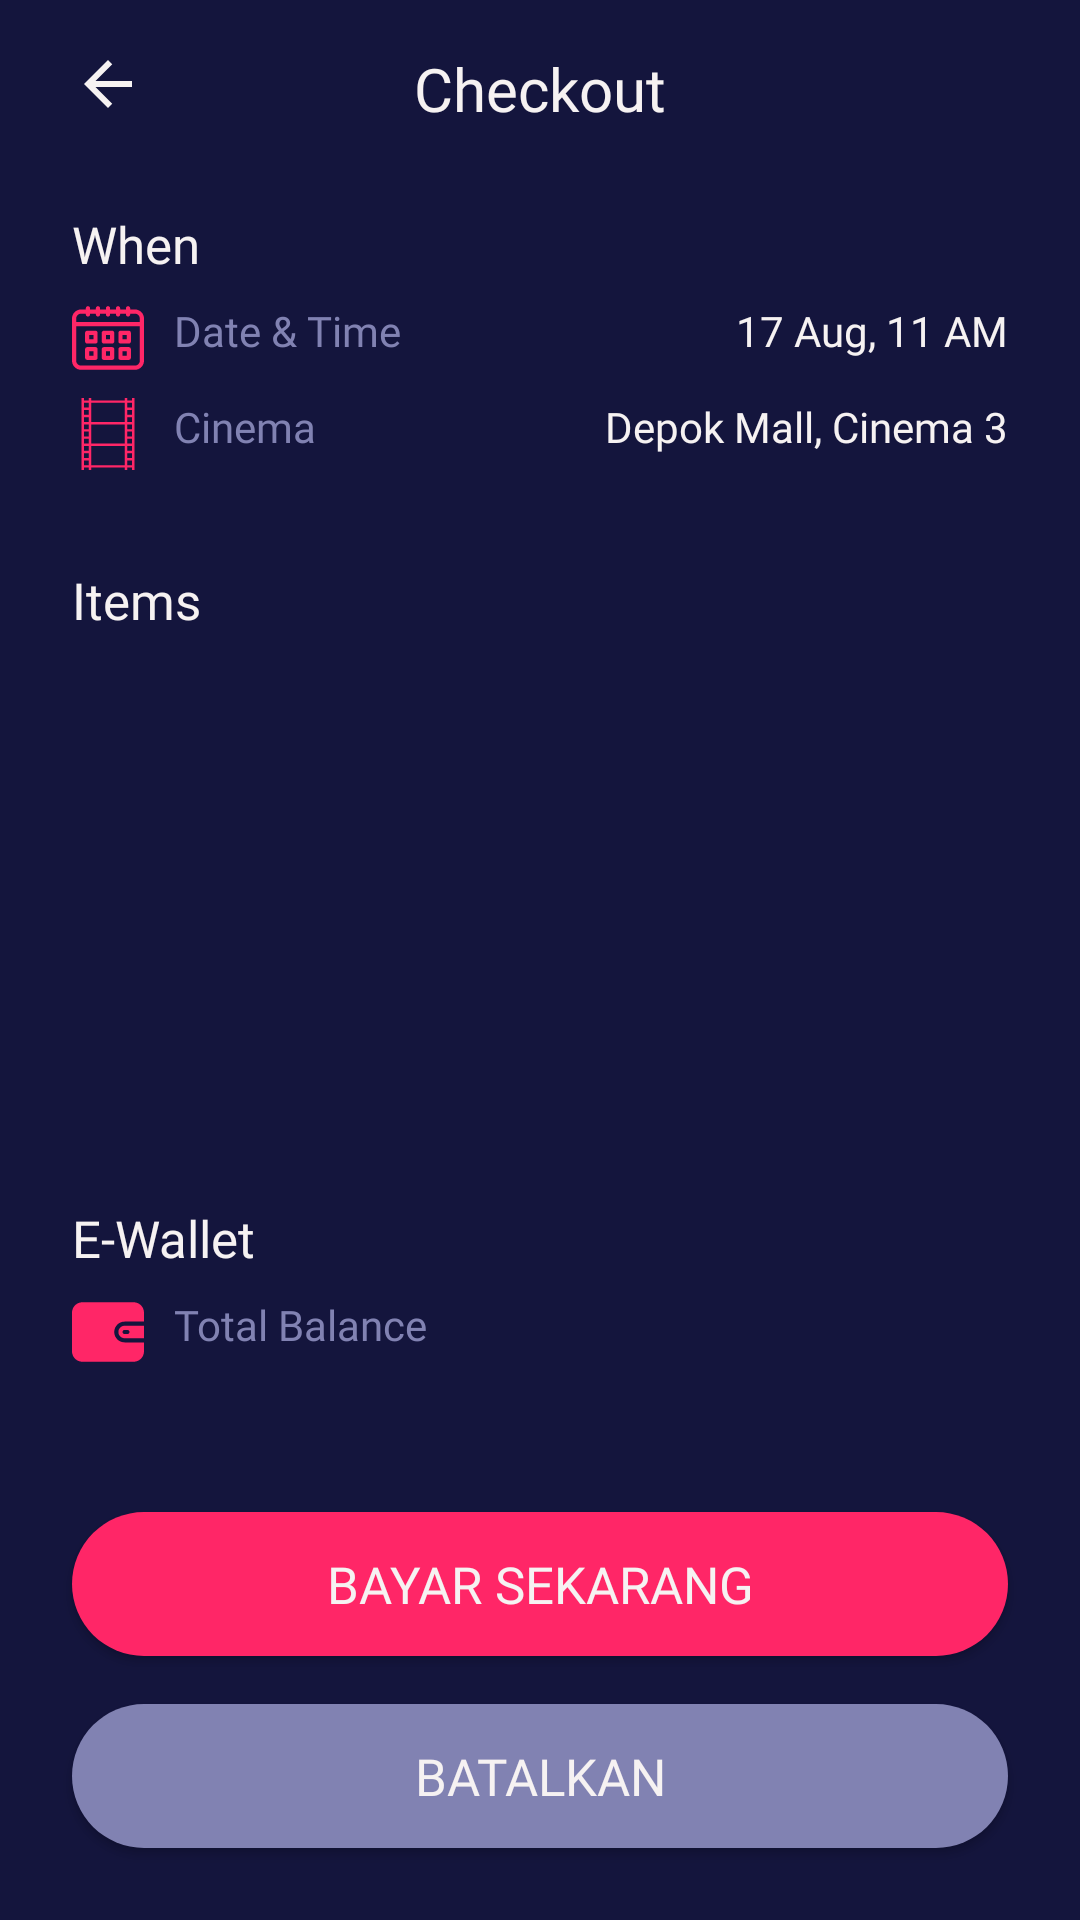

Screen size 1080w x 1920h. Icon name, then its box in pixels as (x1,y1,x2,y2):
arrow back: (84,60,132,108)
